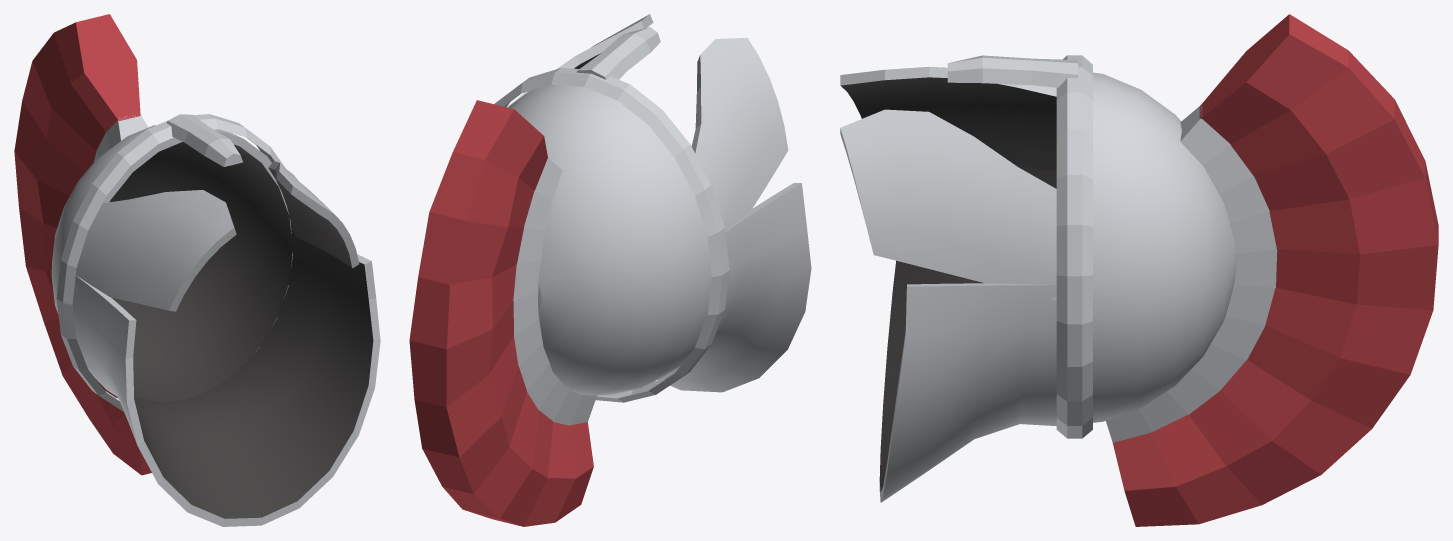
File: Roman_Helmet_Base-CoDsQ4aM.glb
3 renders of one model, left to right at view 1: azimuth 30°, elevation 25°; view 2: azimuth 150°, elevation 25°; view 3: azimuth 270°, elevation 25°, orthographic. The views are drawn at different scales.
Visible parts, largest first — view 1: Roman_Helmet_Base.001; view 2: Roman_Helmet_Base.001; view 3: Roman_Helmet_Base.001.
Part boxes in pixels (x1,y1,x2,y2): Roman_Helmet_Base.001: (14,14,380,526); Roman_Helmet_Base.001: (409,14,811,526); Roman_Helmet_Base.001: (840,14,1438,526).
Bounding box in the file's own units: 0.235 × 0.3606 × 0.3955.
